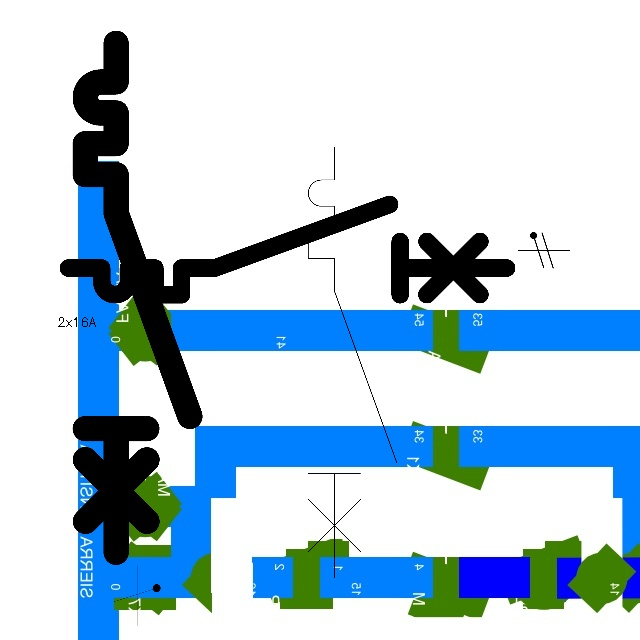interruptor_termomagnetico: (72, 30, 203, 565), (57, 193, 518, 306), (297, 136, 408, 589)
